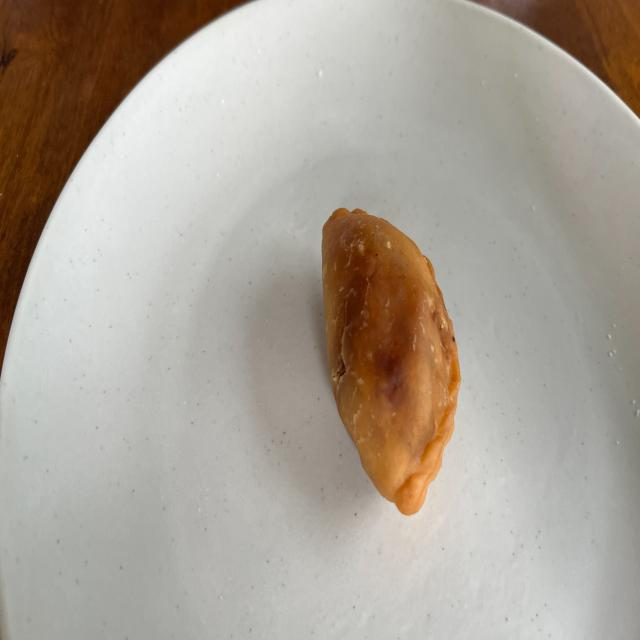karipap: (321, 209, 460, 516)
